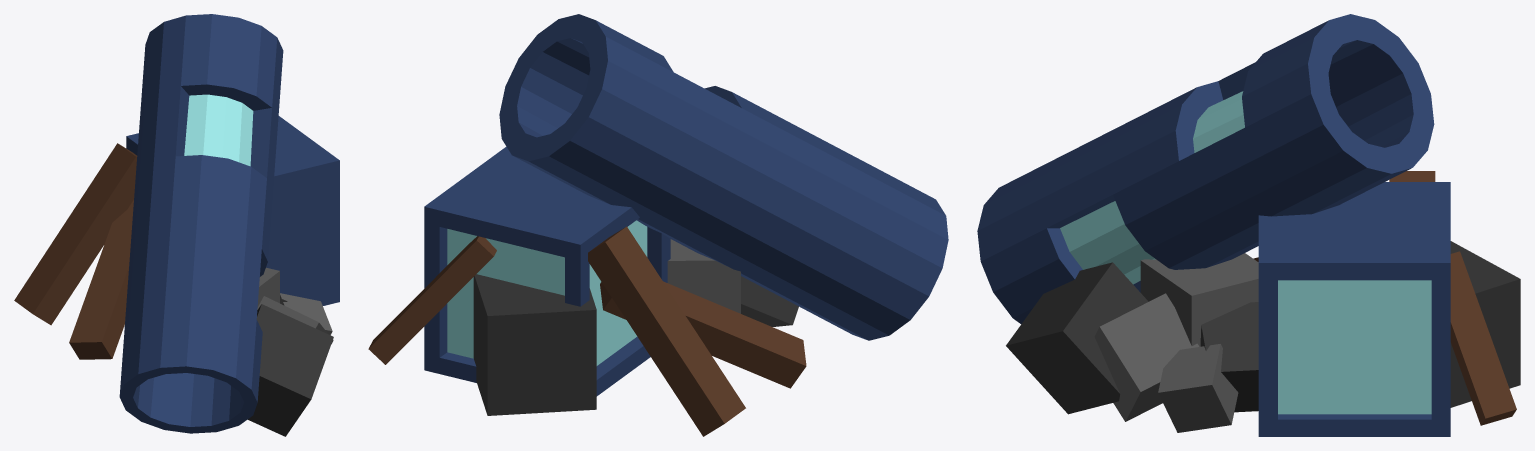
File: Debris.glb
3 views of the same model, side by side, from view 1: azimuth 30°, elevation 25°; view 2: azimuth 150°, elevation 25°; view 3: azimuth 270°, elevation 25° (orthographic). The views are drawn at different scales.
Visible parts, largest first — view 1: Cylinder, Cube, Cube.006, Cube.002, Cube.007, Cube.005, Cube.001, Cube.004; view 2: Cylinder, Cube, Cube.009, Cube.006, Cube.007, Cube.008, Cube.001, Cube.002; view 3: Cylinder, Cube, Cube.002, Cube.004, Cube.001, Cube.008, Cube.005, Cube.009, Cube.003.
Part boxes in pixels (x1=…): Cylinder: x1=119, y1=14, x2=283, y2=433; Cube: x1=126, y1=116, x2=339, y2=305; Cube.006: x1=14, y1=143, x2=137, y2=325; Cube.002: x1=248, y1=304, x2=333, y2=436; Cube.007: x1=69, y1=200, x2=133, y2=359; Cube.005: x1=280, y1=293, x2=332, y2=335; Cube.001: x1=257, y1=267, x2=279, y2=307; Cube.004: x1=257, y1=296, x2=333, y2=343; Cylinder: x1=499, y1=14, x2=948, y2=340; Cube: x1=424, y1=146, x2=670, y2=396; Cube.009: x1=473, y1=274, x2=596, y2=415; Cube.006: x1=588, y1=226, x2=745, y2=436; Cube.007: x1=600, y1=281, x2=806, y2=388; Cube.008: x1=368, y1=236, x2=496, y2=364; Cube.001: x1=667, y1=239, x2=740, y2=313; Cube.002: x1=741, y1=276, x2=798, y2=326; Cylinder: x1=977, y1=14, x2=1434, y2=323; Cube: x1=1258, y1=182, x2=1450, y2=436; Cube.002: x1=1006, y1=262, x2=1148, y2=414; Cube.004: x1=1094, y1=293, x2=1199, y2=421; Cube.001: x1=1140, y1=253, x2=1258, y2=346; Cube.008: x1=1450, y1=251, x2=1516, y2=425; Cube.005: x1=1158, y1=344, x2=1238, y2=432; Cube.009: x1=1450, y1=241, x2=1520, y2=407; Cube.003: x1=1200, y1=302, x2=1258, y2=412.
Bounding box in the file's own units: 1.62 × 1.61 × 1.92.
